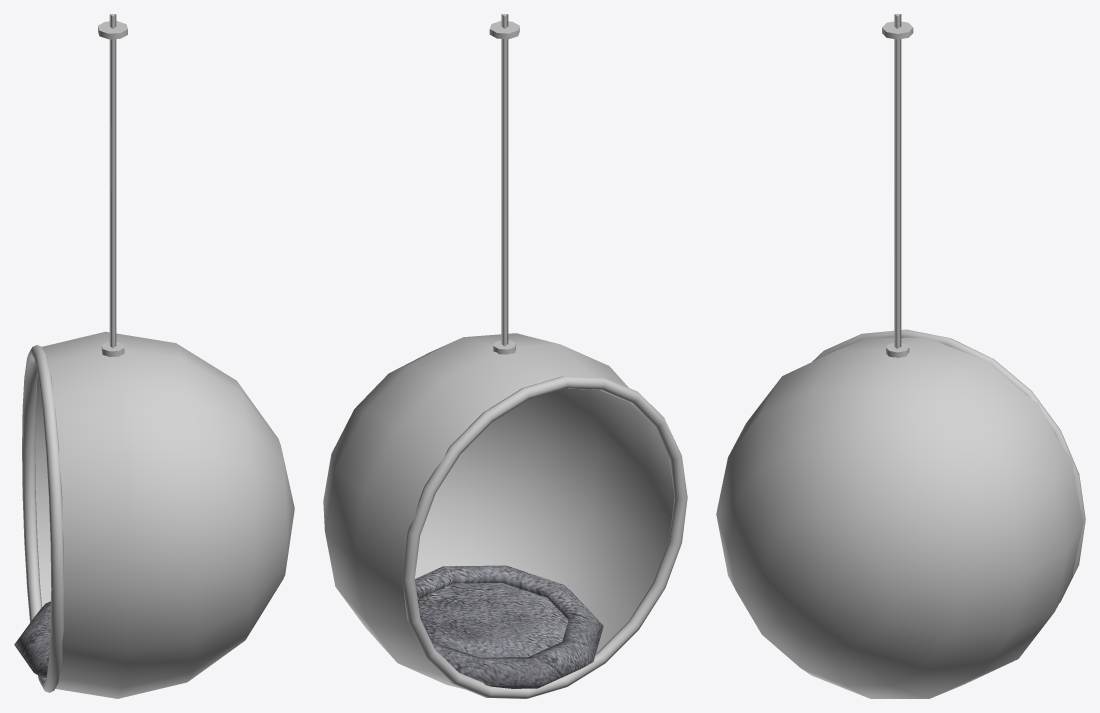
File: M_Dogdiaoyi01.FBX
3 views of the same model, side by side, from view 1: azimuth 30°, elevation 25°; view 2: azimuth 150°, elevation 25°; view 3: azimuth 270°, elevation 25° (orthographic).
Parts seen in each view (by area): view 1: M_Dogdiaoyi01_01, M_Dogdiaoyi01_02, M_Dogdiaoyi01_04; view 2: M_Dogdiaoyi01_01, M_Dogdiaoyi01_04, M_Dogdiaoyi01_02; view 3: M_Dogdiaoyi01_01, M_Dogdiaoyi01_02.
Boxes of the visible parts, box(x1,y1,x2,y2) form: M_Dogdiaoyi01_01: box(35, 331, 294, 698); M_Dogdiaoyi01_02: box(22, 14, 127, 692); M_Dogdiaoyi01_04: box(14, 601, 50, 677); M_Dogdiaoyi01_01: box(323, 333, 674, 689); M_Dogdiaoyi01_04: box(415, 565, 603, 688); M_Dogdiaoyi01_02: box(402, 14, 687, 698); M_Dogdiaoyi01_01: box(716, 337, 1083, 698); M_Dogdiaoyi01_02: box(812, 14, 1085, 602).
Size of the model in its own units: 1.64 by 3.72 by 1.86.
